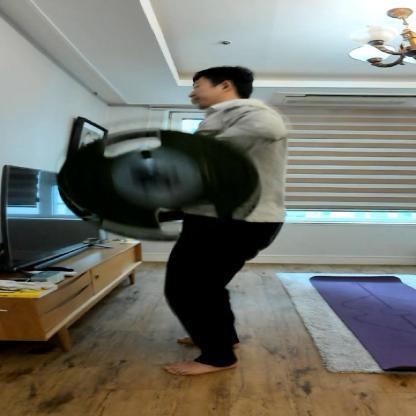barbell: (58, 126, 263, 244)
